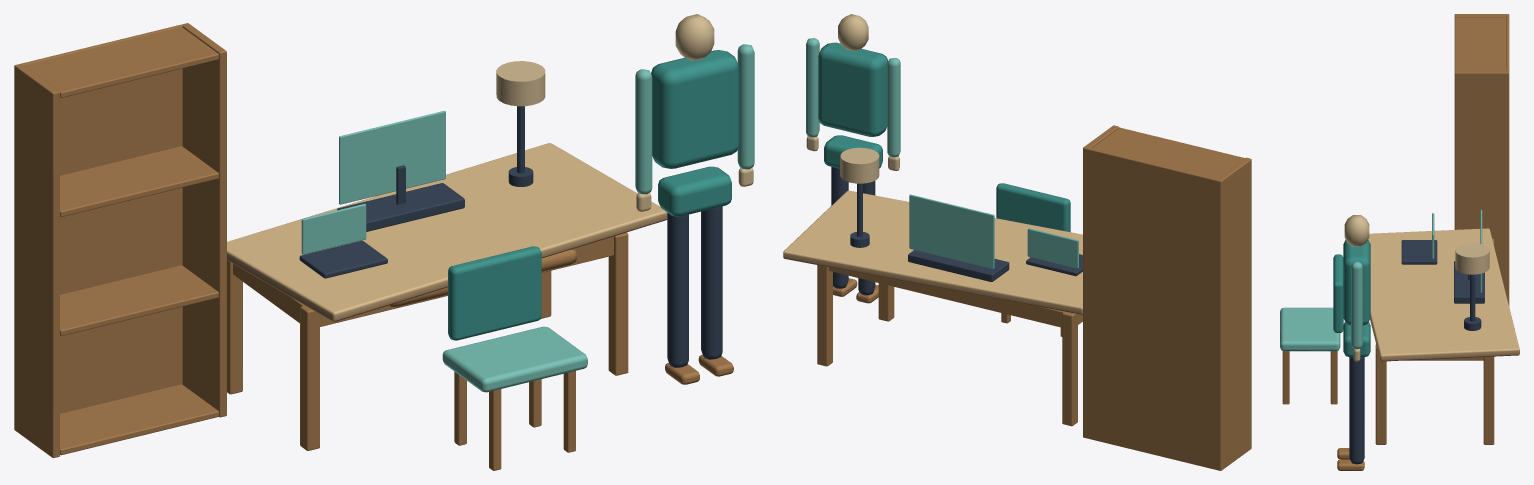
The model's file is ESCRITORIO_FINAL.glb.
3 views of the same model, side by side, from view 1: azimuth 30°, elevation 25°; view 2: azimuth 150°, elevation 25°; view 3: azimuth 270°, elevation 25° (orthographic). The views are drawn at different scales.
Visible parts, largest first — view 1: Estante · Fundo, Escrivaninha · Tampo, Estante · Lateral esquerda, Estante · Lateral direita, Pessoa · Tronco, Monitor · Tela, Cadeira · Encosto, Estante · Prateleira 4, Estante · Prateleira 3, Estante · Prateleira 1, Estante · Prateleira 2, Cadeira · Assento (+19 smaller); view 2: Estante · Fundo, Escrivaninha · Tampo, Estante · Lateral esquerda, Pessoa · Tronco, Monitor · Tela, Estante · Prateleira 4, Cadeira · Encosto, Escrivaninha · Travessa longitudinal 1, Escrivaninha · Perna 1, Estante · Lateral direita, Escrivaninha · Perna 2, Notebook · Tela (+9 smaller); view 3: Escrivaninha · Tampo, Estante · Lateral direita, Estante · Prateleira 4, Cadeira · Assento, Pessoa · Perna 2, Pessoa · Tronco, Escrivaninha · Perna 4, Escrivaninha · Perna 2, Pessoa · Braço 2, Luminária · Cúpula, Notebook · Base, Cadeira · Encosto (+8 smaller).
Boxes of the visible parts, x1,y1,x2,y2 form: Estante · Fundo: (14,23,186,430); Escrivaninha · Tampo: (227,143,667,321); Estante · Lateral esquerda: (14,63,59,457); Estante · Lateral direita: (182,23,226,417); Pessoa · Tronco: (651,50,739,168); Monitor · Tela: (339,110,445,204); Cadeira · Encosto: (448,246,541,340); Estante · Prateleira 4: (24,27,218,97); Estante · Prateleira 3: (60,146,218,216); Estante · Prateleira 1: (60,384,218,455); Estante · Prateleira 2: (60,265,218,335); Cadeira · Assento: (442,326,587,392); Estante · Fundo: (1083,147,1221,470); Escrivaninha · Tampo: (783,190,1082,314); Estante · Lateral esquerda: (1216,157,1251,470); Pessoa · Tronco: (818,42,888,136); Monitor · Tela: (909,194,994,268); Estante · Prateleira 4: (1089,127,1244,183); Cadeira · Encosto: (996,183,1070,232); Escrivaninha · Travessa longitudinal 1: (829,267,1068,327); Escrivaninha · Perna 1: (1062,312,1077,426); Estante · Lateral direita: (1083,125,1119,438); Escrivaninha · Perna 2: (817,265,832,366); Notebook · Tela: (1027,228,1078,268); Escrivaninha · Tampo: (1368,228,1519,361); Estante · Lateral direita: (1454,70,1509,306); Estante · Prateleira 4: (1454,17,1506,70); Cadeira · Assento: (1280,307,1340,351); Pessoa · Perna 2: (1349,357,1364,464); Pessoa · Tronco: (1343,239,1370,325); Escrivaninha · Perna 4: (1375,344,1386,444); Escrivaninha · Perna 2: (1483,356,1494,444); Pessoa · Braço 2: (1351,261,1362,349); Luminária · Cúpula: (1455,243,1489,274); Notebook · Base: (1401,240,1437,264); Cadeira · Encosto: (1333,254,1343,332).
Bounding box in the file's own units: 3.25 × 1.8 × 1.54.
